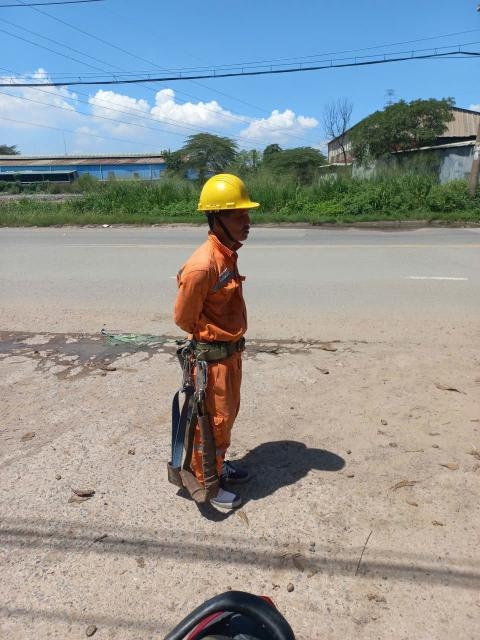harness: (176, 326, 254, 372)
helmet: (186, 168, 259, 230)
shoes: (184, 475, 247, 528), (208, 454, 273, 497)
